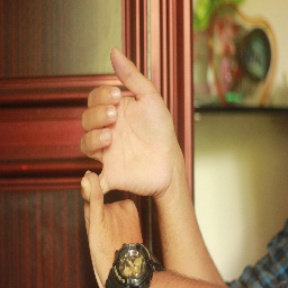S: (74, 46, 180, 286)
